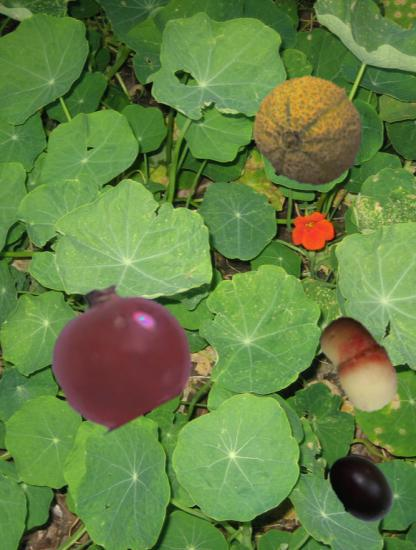Cantaloupe: (254, 74, 366, 186)
Eggplant: (323, 450, 401, 528)
Peach: (307, 314, 409, 416)
Redcurrant: (48, 282, 190, 424)
